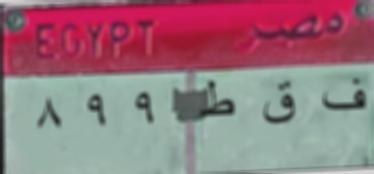8: (33, 90, 68, 137)
9: (132, 90, 158, 134), (86, 89, 111, 130)
Taa: (200, 80, 238, 129)
faa: (322, 72, 369, 123)
qaaf: (260, 78, 301, 132)
